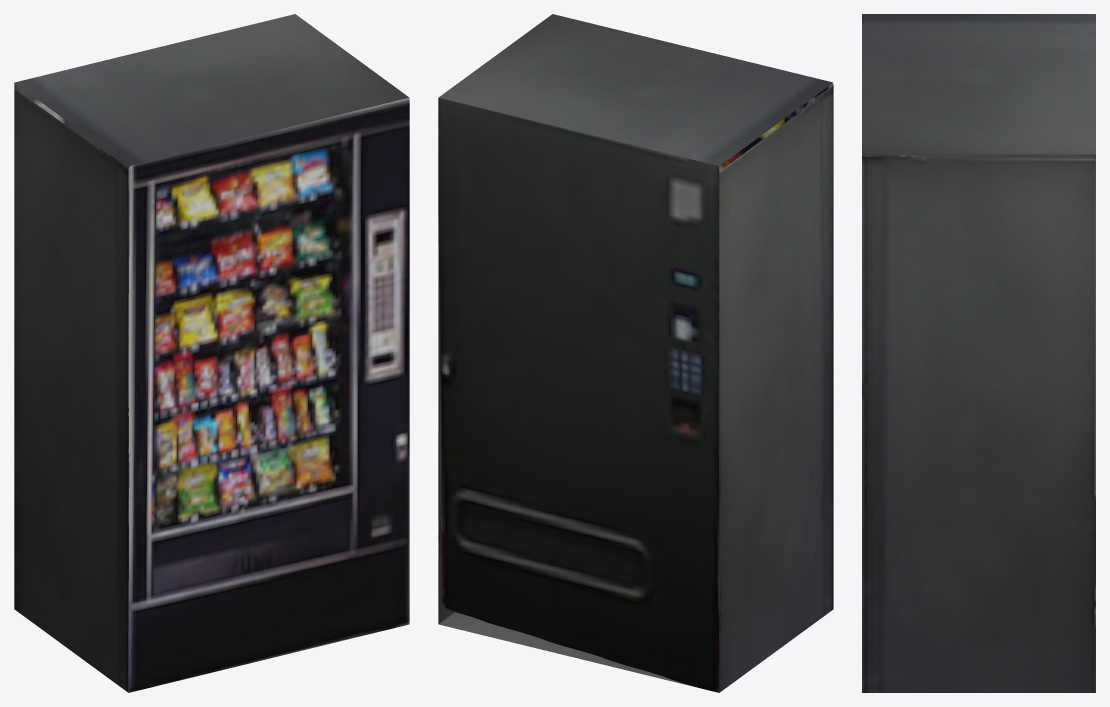
File: vending_machine.FBX
The picture shows the model from 3 angles, left to right: view 1: azimuth 30°, elevation 25°; view 2: azimuth 150°, elevation 25°; view 3: azimuth 270°, elevation 25°; orthographic projection. The views are drawn at different scales.
Visible parts, largest first — view 1: operational_vending_machine, vending_flap; view 2: operational_vending_machine; view 3: operational_vending_machine.
Boxes of the visible parts, <box> form: operational_vending_machine: <box>14,14,409,692</box>; vending_flap: <box>152,490,354,599</box>; operational_vending_machine: <box>438,14,833,692</box>; operational_vending_machine: <box>862,14,1095,692</box>.
Bounding box in the file's own units: 76.45 × 137 × 53.87.
